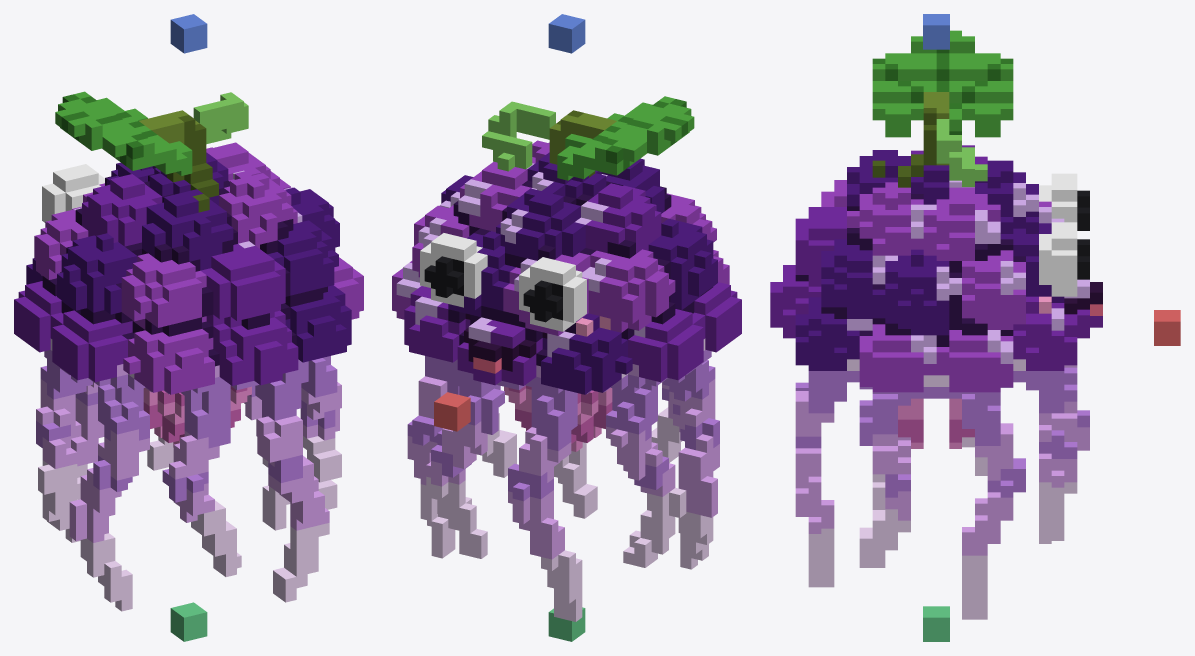
Rendered from GraipussMedussi.glb.
3 views of the same model, side by side, from view 1: azimuth 30°, elevation 25°; view 2: azimuth 150°, elevation 25°; view 3: azimuth 270°, elevation 25° (orthographic).
Parts seen in each view (by area): view 1: GraipussMedussi_Body, GraipussMedussi_Tail1, GraipussMedussi_Tail3, GraipussMedussi_Tail2, GraipussMedussi_Tail8, GraipussMedussi_Tail4, GraipussMedussi_Tail7, GraipussMedussi_Tail5, GraipussMedussi_Top, GraipussMedussi_Built, GraipussMedussi_Tail6; view 2: GraipussMedussi_Body, GraipussMedussi_Tail7, GraipussMedussi_Tail8, GraipussMedussi_Tail1, GraipussMedussi_Tail6, GraipussMedussi_Tail5, GraipussMedussi_Tail3, GraipussMedussi_Tail2, GraipussMedussi_Top, GraipussMedussi_Tail4, GraipussMedussi_Front, GraipussMedussi_Built; view 3: GraipussMedussi_Body, GraipussMedussi_Tail5, GraipussMedussi_Tail3, GraipussMedussi_Tail4, GraipussMedussi_Tail6, GraipussMedussi_Tail7, GraipussMedussi_Front, GraipussMedussi_Top, GraipussMedussi_Built, GraipussMedussi_Tail1.
Part boxes in pixels (left/top/right/bottom): GraipussMedussi_Body: left=14, top=91, right=363, bottom=447; GraipussMedussi_Tail1: left=69, top=384, right=149, bottom=611; GraipussMedussi_Tail3: left=255, top=368, right=329, bottom=602; GraipussMedussi_Tail2: left=162, top=385, right=241, bottom=576; GraipussMedussi_Tail8: left=36, top=359, right=92, bottom=530; GraipussMedussi_Tail4: left=300, top=356, right=341, bottom=509; GraipussMedussi_Tail7: left=65, top=382, right=104, bottom=542; GraipussMedussi_Tail5: left=244, top=386, right=290, bottom=530; GraipussMedussi_Top: left=170, top=14, right=207, bottom=53; GraipussMedussi_Built: left=170, top=602, right=207, bottom=641; GraipussMedussi_Tail6: left=147, top=437, right=173, bottom=470; GraipussMedussi_Body: left=392, top=96, right=741, bottom=451; GraipussMedussi_Tail7: left=508, top=387, right=582, bottom=621; GraipussMedussi_Tail8: left=606, top=384, right=686, bottom=567; GraipussMedussi_Tail1: left=663, top=360, right=719, bottom=569; GraipussMedussi_Tail6: left=426, top=368, right=504, bottom=558; GraipussMedussi_Tail5: left=407, top=356, right=459, bottom=558; GraipussMedussi_Tail3: left=554, top=442, right=597, bottom=518; GraipussMedussi_Tail2: left=651, top=382, right=682, bottom=463; GraipussMedussi_Top: left=548, top=14, right=585, bottom=53; GraipussMedussi_Tail4: left=481, top=413, right=516, bottom=477; GraipussMedussi_Front: left=434, top=392, right=470, bottom=431; GraipussMedussi_Built: left=548, top=607, right=585, bottom=641; GraipussMedussi_Body: left=770, top=30, right=1102, bottom=448; GraipussMedussi_Tail5: left=962, top=393, right=1025, bottom=619; GraipussMedussi_Tail3: left=795, top=371, right=846, bottom=587; GraipussMedussi_Tail4: left=859, top=393, right=910, bottom=567; GraipussMedussi_Tail6: left=1026, top=367, right=1077, bottom=540; GraipussMedussi_Tail7: left=1039, top=365, right=1089, bottom=543; GraipussMedussi_Front: left=1154, top=310, right=1180, bottom=345; GraipussMedussi_Top: left=923, top=14, right=949, bottom=49; GraipussMedussi_Built: left=923, top=606, right=949, bottom=641; GraipussMedussi_Tail1: left=859, top=388, right=910, bottom=509.
Bounding box in the file's own units: 3.1 × 6.33 × 3.82.
Materials: 1 (1 with a texture image).
